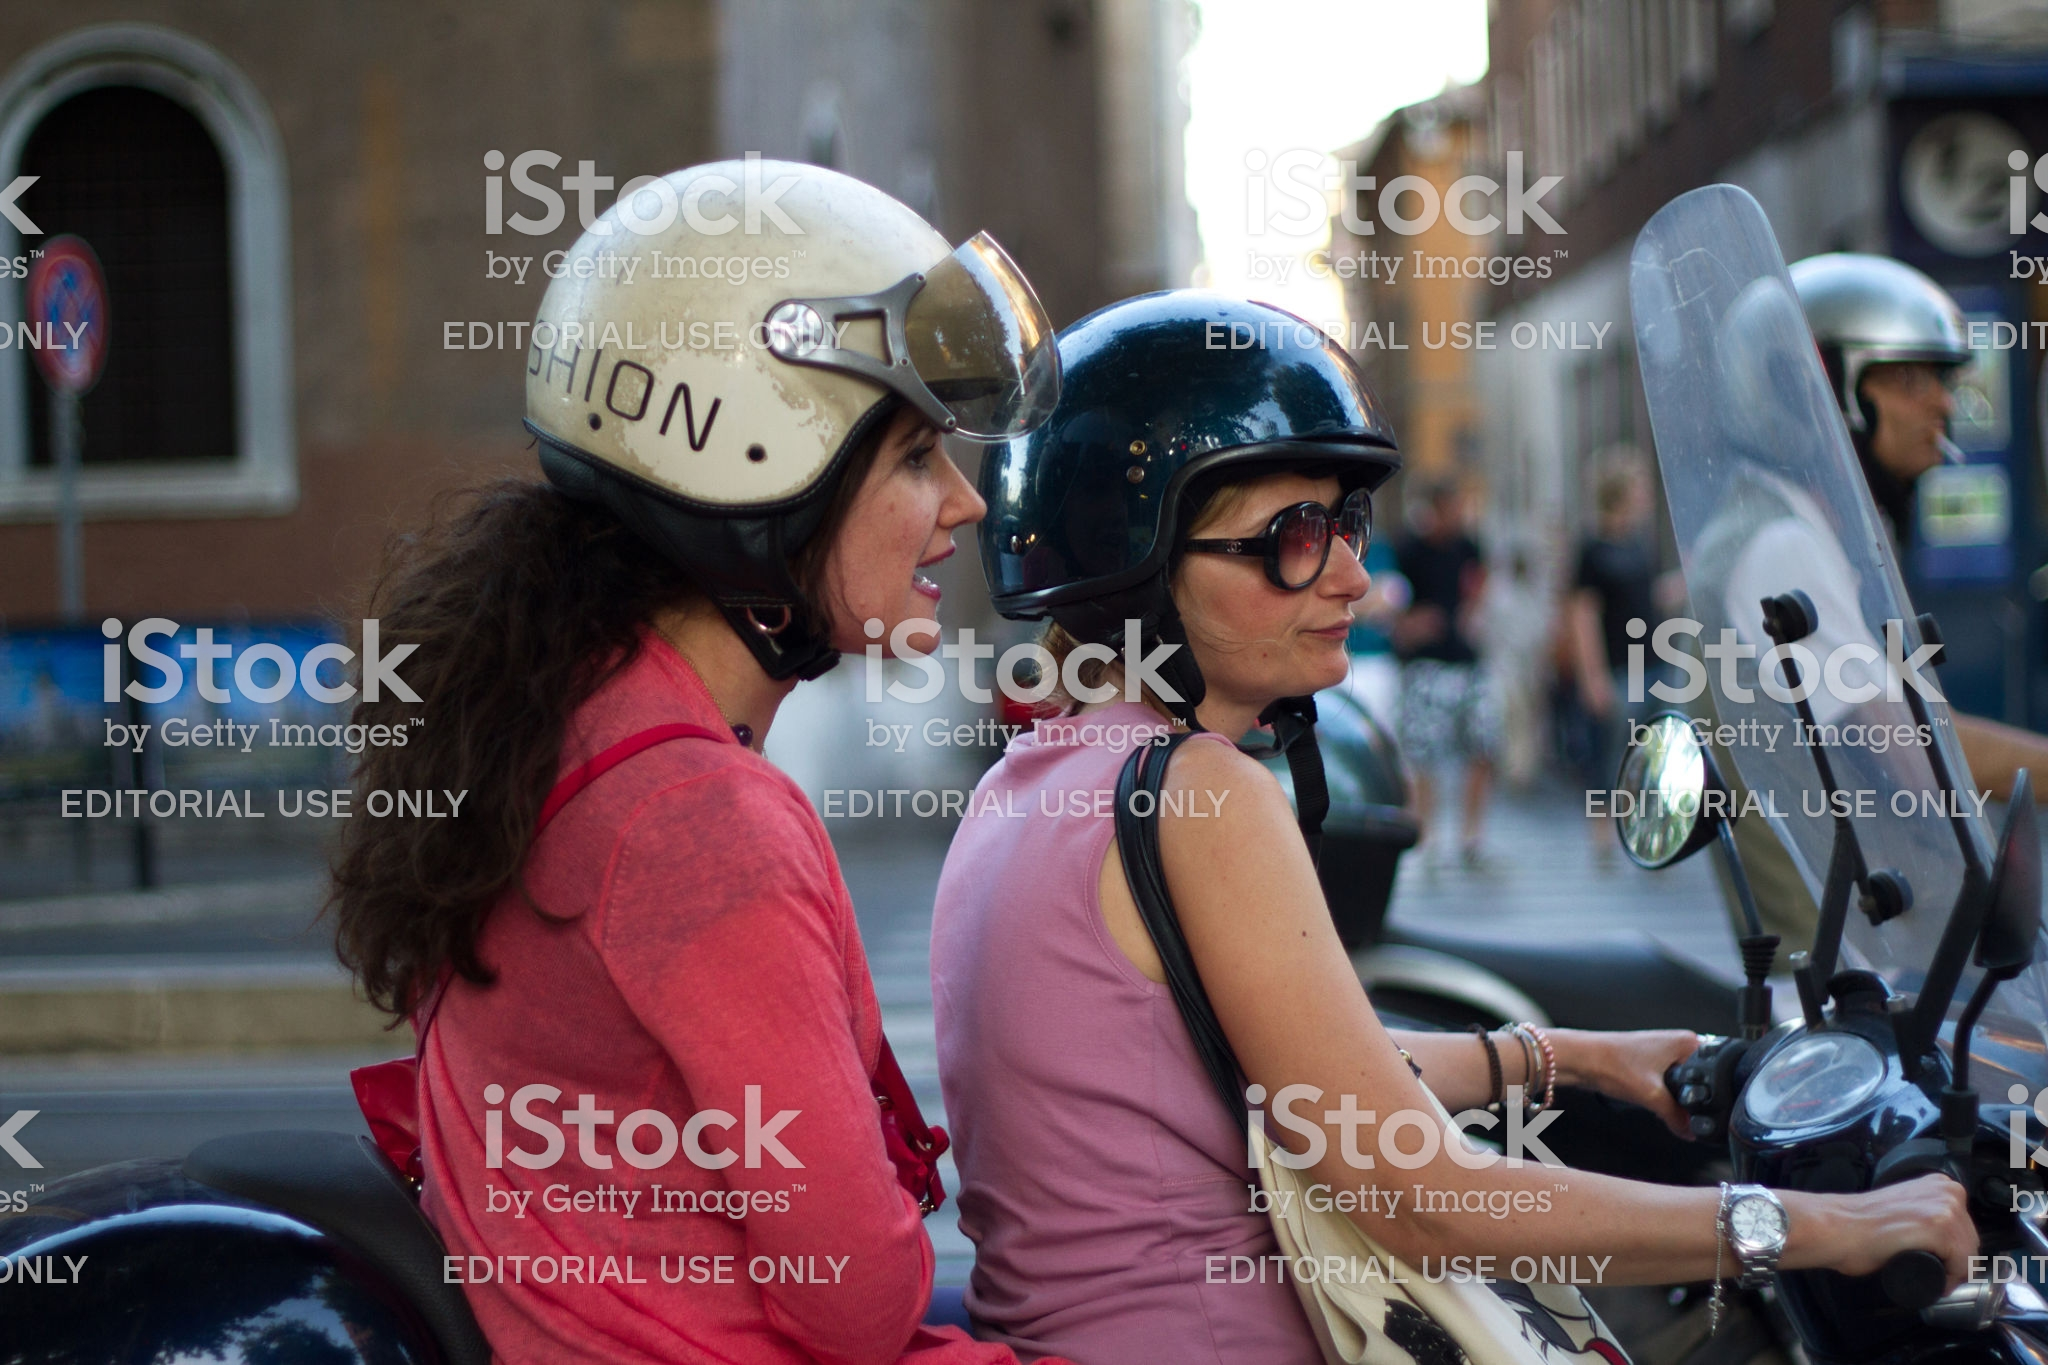helmet: (534, 154, 988, 555), (973, 283, 1387, 611)
